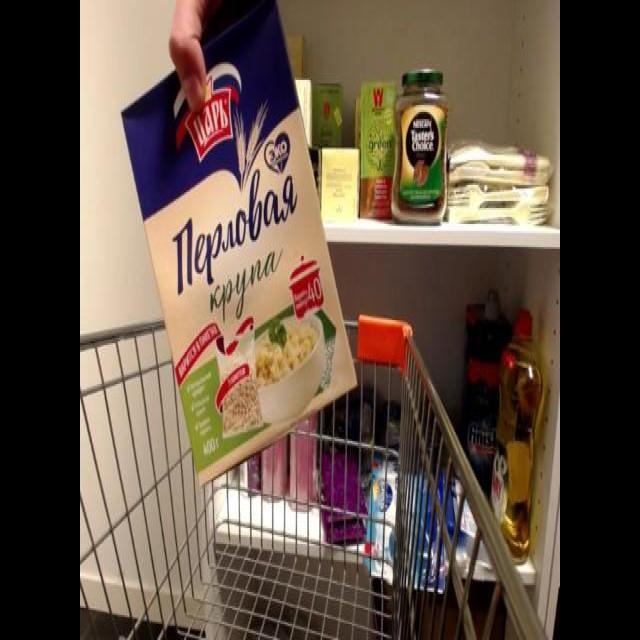Groats: (117, 5, 363, 496)
